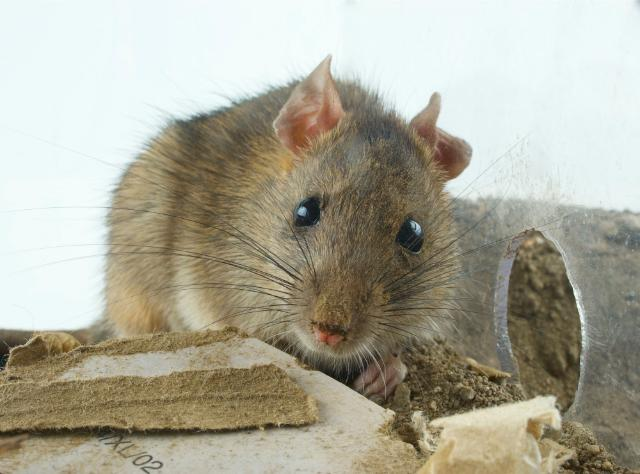rat: (90, 47, 484, 396)
